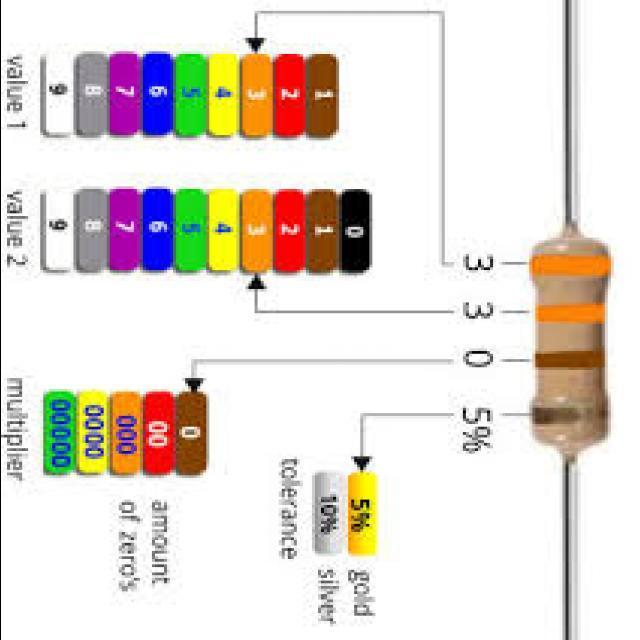Resistor: (530, 225, 610, 460)
brown: (534, 351, 607, 371)
gold: (530, 410, 616, 422)
orange: (526, 298, 610, 325), (526, 253, 608, 276)
